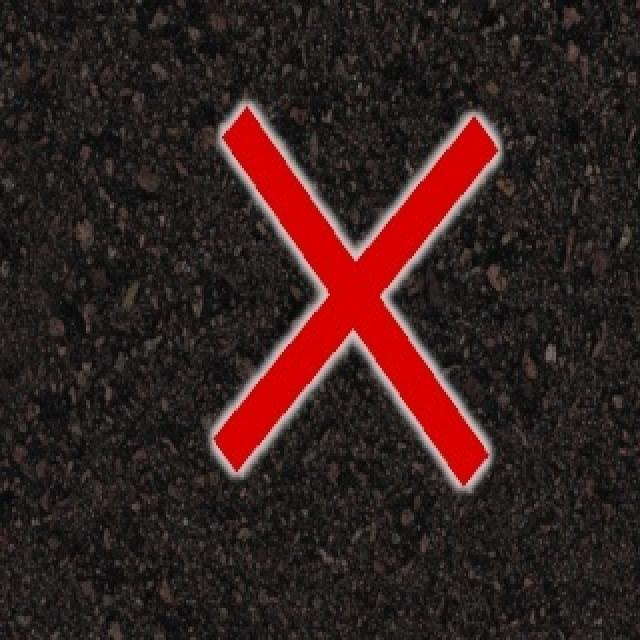x_marker: (213, 105, 497, 484)
